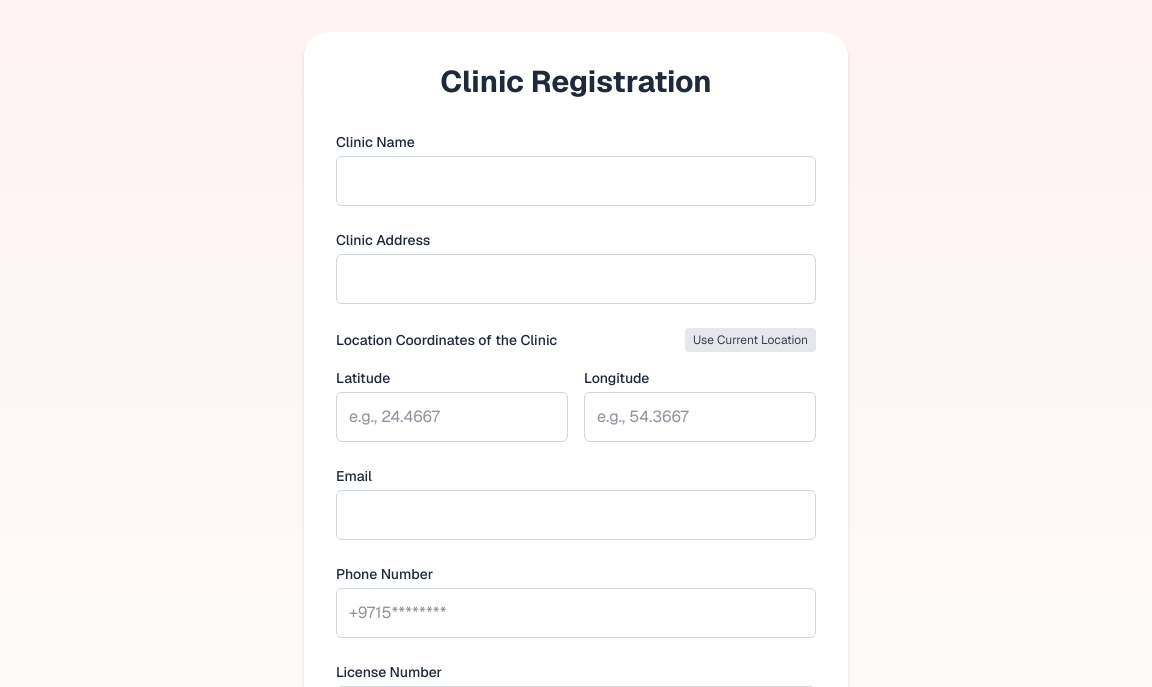
Test: Clinic Registration Flow › handles geolocation errors correctly
Note: Click use current location
Click the button "Use Current Location" at (750, 340), box top-left (685, 328), bottom-right (816, 352)
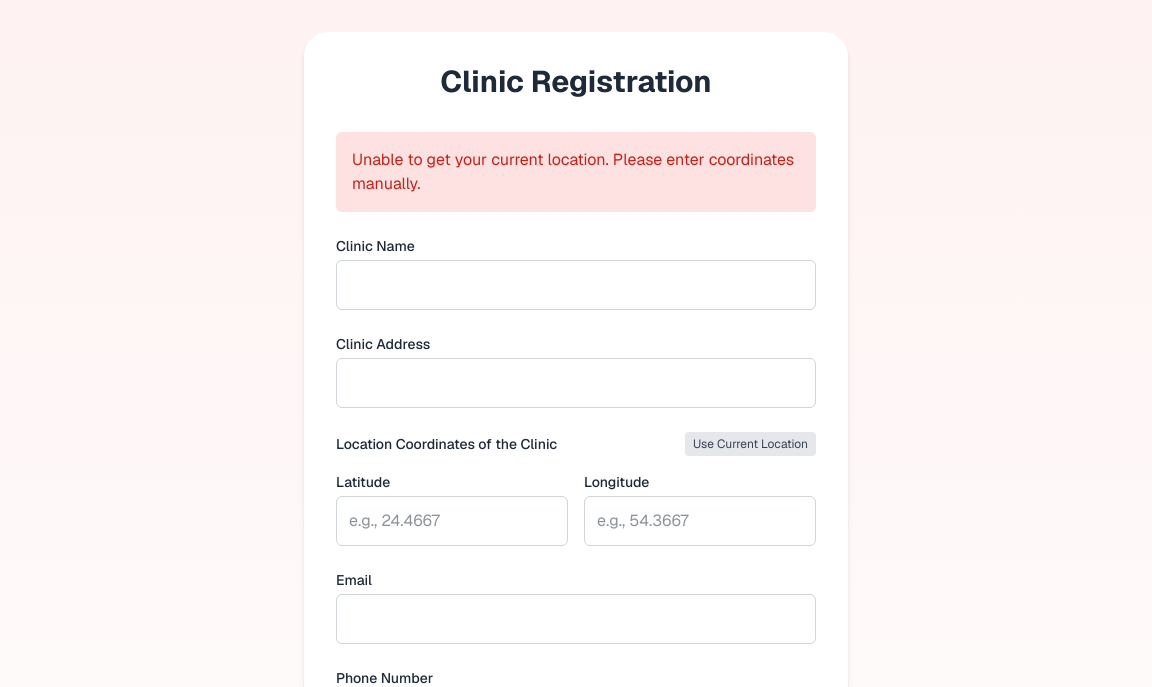
Check: the text "Unable to get your current location. Please enter coordinates manually." is shown, box top-left (336, 132), bottom-right (816, 212)
